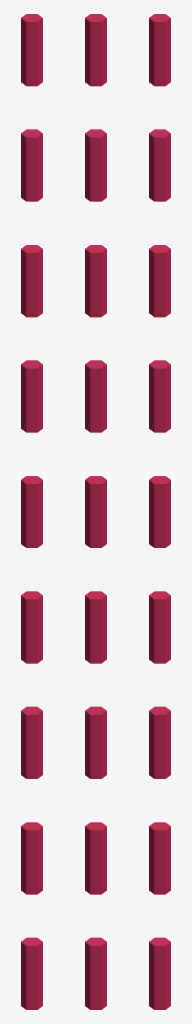
The model's file is pole-red.gltf.
3 views of the same model, side by side, from view 1: azimuth 30°, elevation 25°; view 2: azimuth 150°, elevation 25°; view 3: azimuth 330°, elevation 25° (orthographic).
Visible parts, largest first — view 1: Cylinder; view 2: Cylinder; view 3: Cylinder.
Part boxes in pixels (x1=…): Cylinder: x1=21, y1=14, x2=42, y2=1009; Cylinder: x1=85, y1=14, x2=106, y2=1009; Cylinder: x1=149, y1=14, x2=170, y2=1009.
Bounding box in the file's own units: 0.05 × 2.85 × 0.0577.
